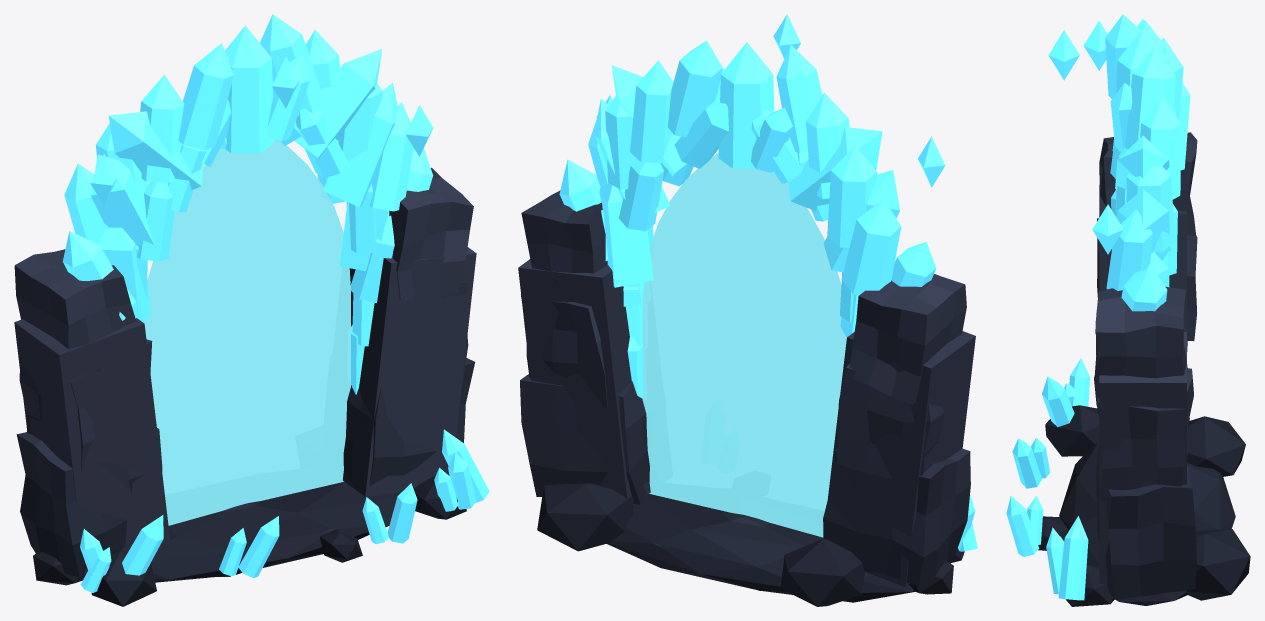
Rendered from portal_crystal.glb.
3 renders of one model, left to right at view 1: azimuth 30°, elevation 25°; view 2: azimuth 150°, elevation 25°; view 3: azimuth 270°, elevation 25°, orthographic. The views are drawn at different scales.
Visible parts, largest first — view 1: Surface_Far, Surface_Near, Far_Body, Arch_Crystals, Pillar_L, Base, Pillar_R, Motif_GroundClusters, Motif_Apex, Motif_FloatShard_1, Motif_FloatShard_2, Motif_FloatShard_3; view 2: Surface_Far, Surface_Near, Far_Body, Arch_Crystals, Pillar_L, Base, Pillar_R, Motif_Apex, Motif_FloatShard_1, Motif_FloatShard_3; view 3: Pillar_R, Base, Arch_Crystals, Far_Body, Motif_GroundClusters, Pillar_L, Motif_Apex, Motif_FloatShard_2, Motif_FloatShard_3, Motif_FloatShard_1.
Boxes of the visible parts, bbox=[...] form: Surface_Far: bbox=[144, 139, 350, 525]; Surface_Near: bbox=[145, 140, 350, 525]; Far_Body: bbox=[14, 49, 476, 576]; Arch_Crystals: bbox=[62, 14, 433, 394]; Pillar_L: bbox=[14, 249, 168, 577]; Base: bbox=[33, 476, 466, 606]; Pillar_R: bbox=[343, 167, 475, 493]; Motif_GroundClusters: bbox=[80, 429, 489, 592]; Motif_Apex: bbox=[221, 25, 309, 153]; Motif_FloatShard_1: bbox=[90, 154, 117, 205]; Motif_FloatShard_2: bbox=[405, 105, 433, 156]; Motif_FloatShard_3: bbox=[272, 57, 299, 108]; Surface_Far: bbox=[642, 153, 846, 537]; Surface_Near: bbox=[642, 153, 846, 536]; Far_Body: bbox=[518, 65, 975, 590]; Arch_Crystals: bbox=[559, 40, 936, 398]; Pillar_L: bbox=[823, 274, 970, 586]; Base: bbox=[537, 483, 964, 606]; Pillar_R: bbox=[520, 190, 649, 504]; Motif_Apex: bbox=[714, 42, 792, 172]; Motif_FloatShard_1: bbox=[918, 136, 945, 187]; Motif_FloatShard_3: bbox=[773, 14, 800, 58]; Pillar_R: bbox=[1094, 286, 1197, 599]; Base: bbox=[1038, 405, 1250, 606]; Arch_Crystals: bbox=[1105, 14, 1190, 311]; Far_Body: bbox=[1099, 19, 1221, 591]; Motif_GroundClusters: bbox=[1006, 358, 1089, 600]; Pillar_L: bbox=[1095, 132, 1197, 429]; Motif_Apex: bbox=[1110, 28, 1168, 152]; Motif_FloatShard_2: bbox=[1092, 204, 1123, 254]; Motif_FloatShard_3: bbox=[1048, 30, 1079, 80]; Motif_FloatShard_1: bbox=[1083, 20, 1107, 70].
Size of the model in its own units: 2.71 by 3.22 by 1.39.
